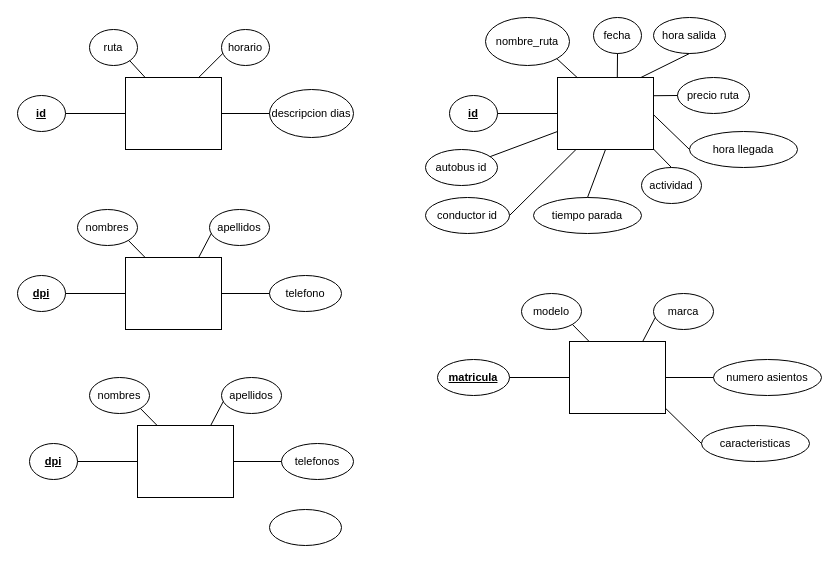
The diagram is 839 pixels wide and 563 high, and some of its shapes have lost their labels. The shapes that lost their labels are listed below. From the top down, each one's centre as x and y in pixels, then its label:
(173,113): SERVICIO DIARIO
(605,113): VIAJE
(173,293): PASAJERO
(617,377): AUTOBUS
(185,461): CONDUCTOR
(305,527): direccion
